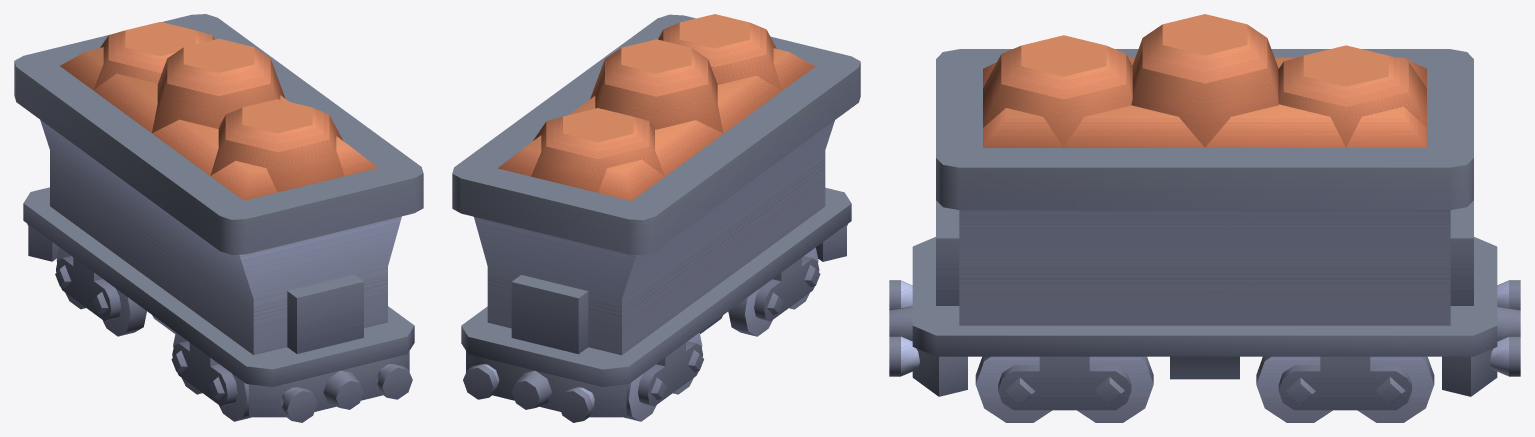
File: train-carriage-dirt.glb
3 renders of one model, left to right at view 1: azimuth 30°, elevation 25°; view 2: azimuth 150°, elevation 25°; view 3: azimuth 270°, elevation 25°, orthographic. The views are drawn at different scales.
Parts seen in each view (by area): view 1: train-carriage-dirt, cargo, wheels-back, wheels-front; view 2: train-carriage-dirt, cargo, wheels-front, wheels-back; view 3: train-carriage-dirt, cargo, wheels-front, wheels-back.
Boxes of the visible parts, box(x1,y1,x2,y2) form: train-carriage-dirt: box(14, 14, 423, 422); cargo: box(60, 22, 377, 200); wheels-back: box(55, 247, 146, 336); wheels-front: box(171, 332, 250, 421); train-carriage-dirt: box(452, 14, 860, 422); cargo: box(497, 14, 815, 200); wheels-front: box(728, 247, 820, 336); wheels-back: box(624, 332, 703, 421); train-carriage-dirt: box(889, 49, 1520, 396); cargo: box(983, 14, 1426, 147); wheels-front: box(975, 356, 1153, 422); wheels-back: box(1256, 356, 1434, 422).
Size of the model in its own units: 1.2 by 1.65 by 2.7.
1 material, 1 textured.
